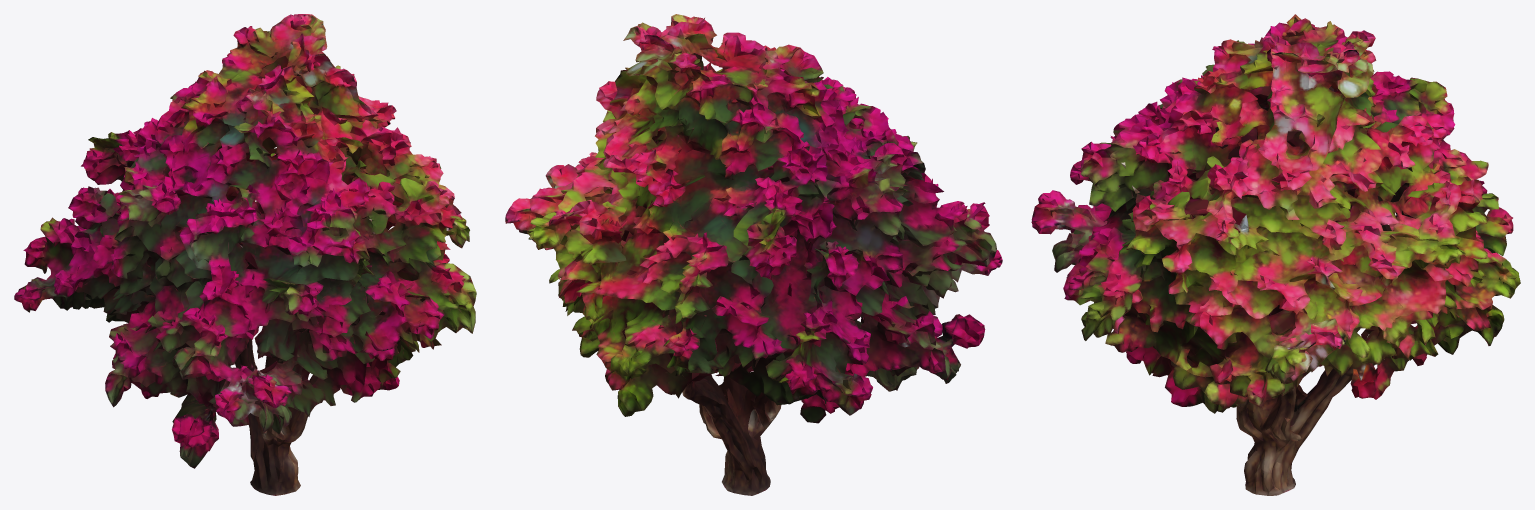
The model's file is veg_bougainvillea.glb.
The picture shows the model from 3 angles, left to right: view 1: azimuth 30°, elevation 25°; view 2: azimuth 150°, elevation 25°; view 3: azimuth 270°, elevation 25°; orthographic projection. The views are drawn at different scales.
Visible parts, largest first — view 1: geometry_0; view 2: geometry_0; view 3: geometry_0.
Boxes of the visible parts, bbox=[...] form: geometry_0: bbox=[14, 14, 476, 495]; geometry_0: bbox=[505, 14, 1002, 495]; geometry_0: bbox=[1031, 14, 1520, 495].
Size of the model in its own units: 2.84 by 3 by 2.84.
Materials: 1 (1 with a texture image).
